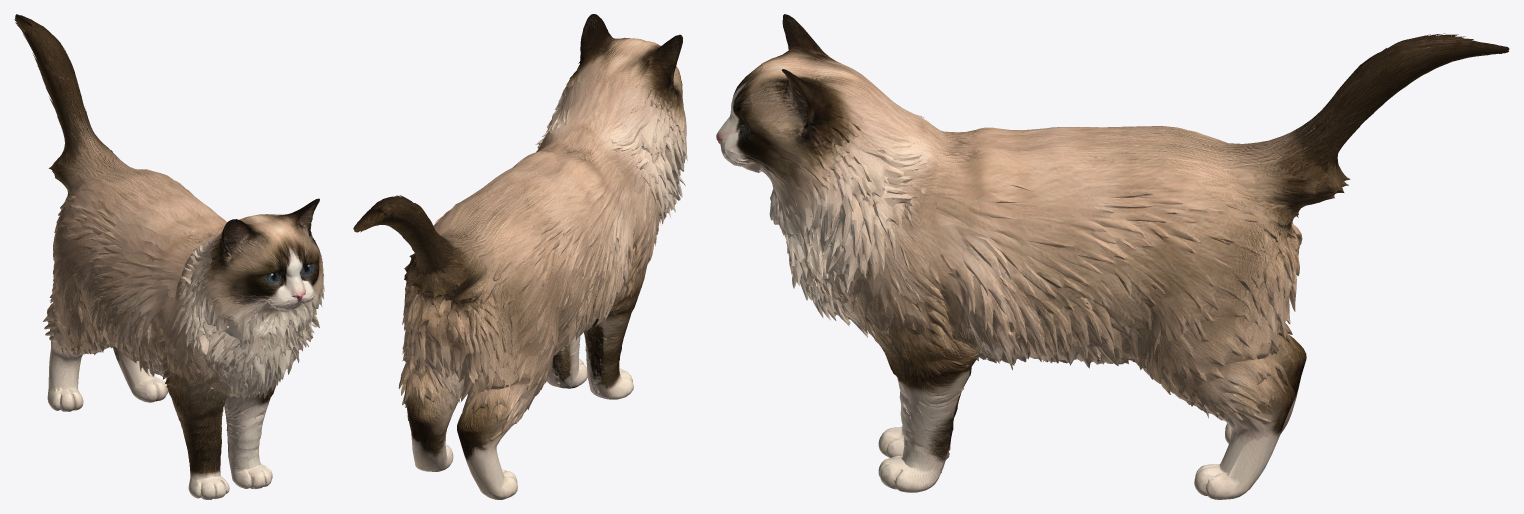
Rendered from mochi-longhair-web.glb.
3 views of the same model, side by side, from view 1: azimuth 30°, elevation 25°; view 2: azimuth 150°, elevation 25°; view 3: azimuth 270°, elevation 25° (orthographic). The views are drawn at different scales.
Visible parts, largest first — view 1: output_unwrapped; view 2: output_unwrapped; view 3: output_unwrapped.
Boxes of the visible parts, x1,y1,x2,y2 form: output_unwrapped: (14, 14, 324, 499); output_unwrapped: (353, 14, 687, 499); output_unwrapped: (716, 14, 1509, 499).
Bounding box in the file's own units: 0.5056 × 1.13 × 1.87.
1 material, 1 textured.
